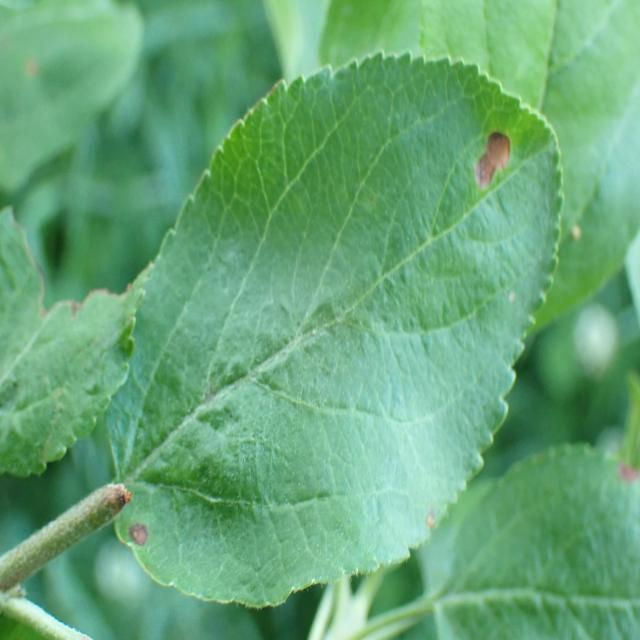Black Rot: (449, 113, 538, 232), (122, 512, 160, 566)
